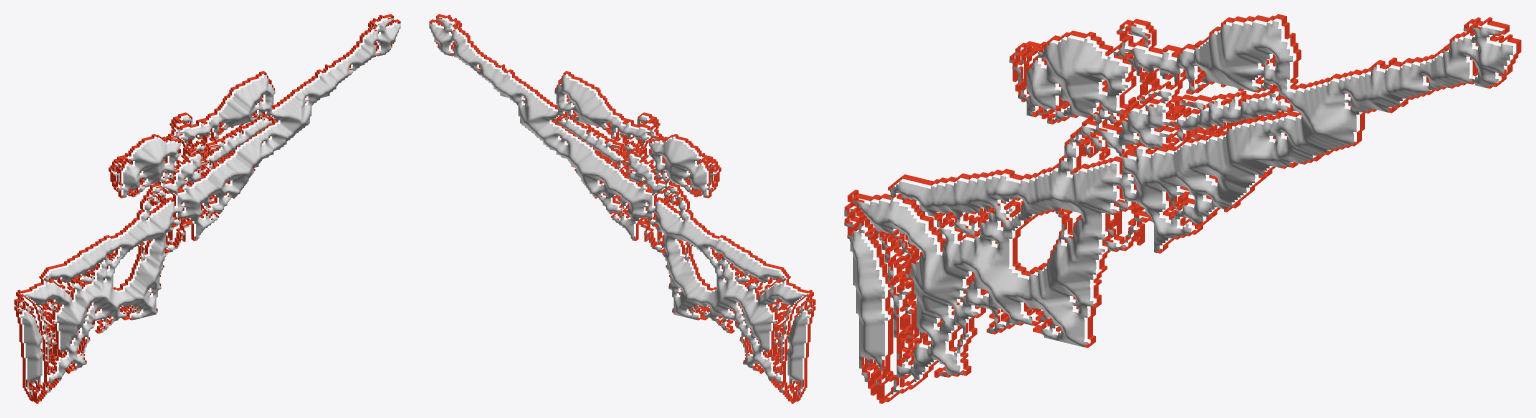
Rendered from val-elderflame-operator-relief.glb.
3 renders of one model, left to right at view 1: azimuth 30°, elevation 25°; view 2: azimuth 150°, elevation 25°; view 3: azimuth 330°, elevation 25°, orthographic. The views are drawn at different scales.
Parts seen in each view (by area): view 1: projected-skin, silhouette-edge; view 2: projected-skin, silhouette-edge; view 3: projected-skin, silhouette-edge.
Boxes of the visible parts, x1,y1,x2,y2 form: projected-skin: (19, 18, 400, 394); silhouette-edge: (14, 14, 400, 403); projected-skin: (429, 18, 810, 394); silhouette-edge: (429, 14, 815, 403); projected-skin: (844, 21, 1512, 394); silhouette-edge: (844, 14, 1521, 403).
Size of the model in its own units: 0.9098 by 0.6863 by 0.0825.
